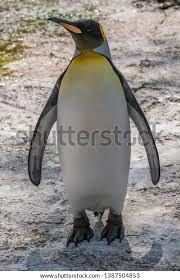king: (30, 2, 158, 238)
